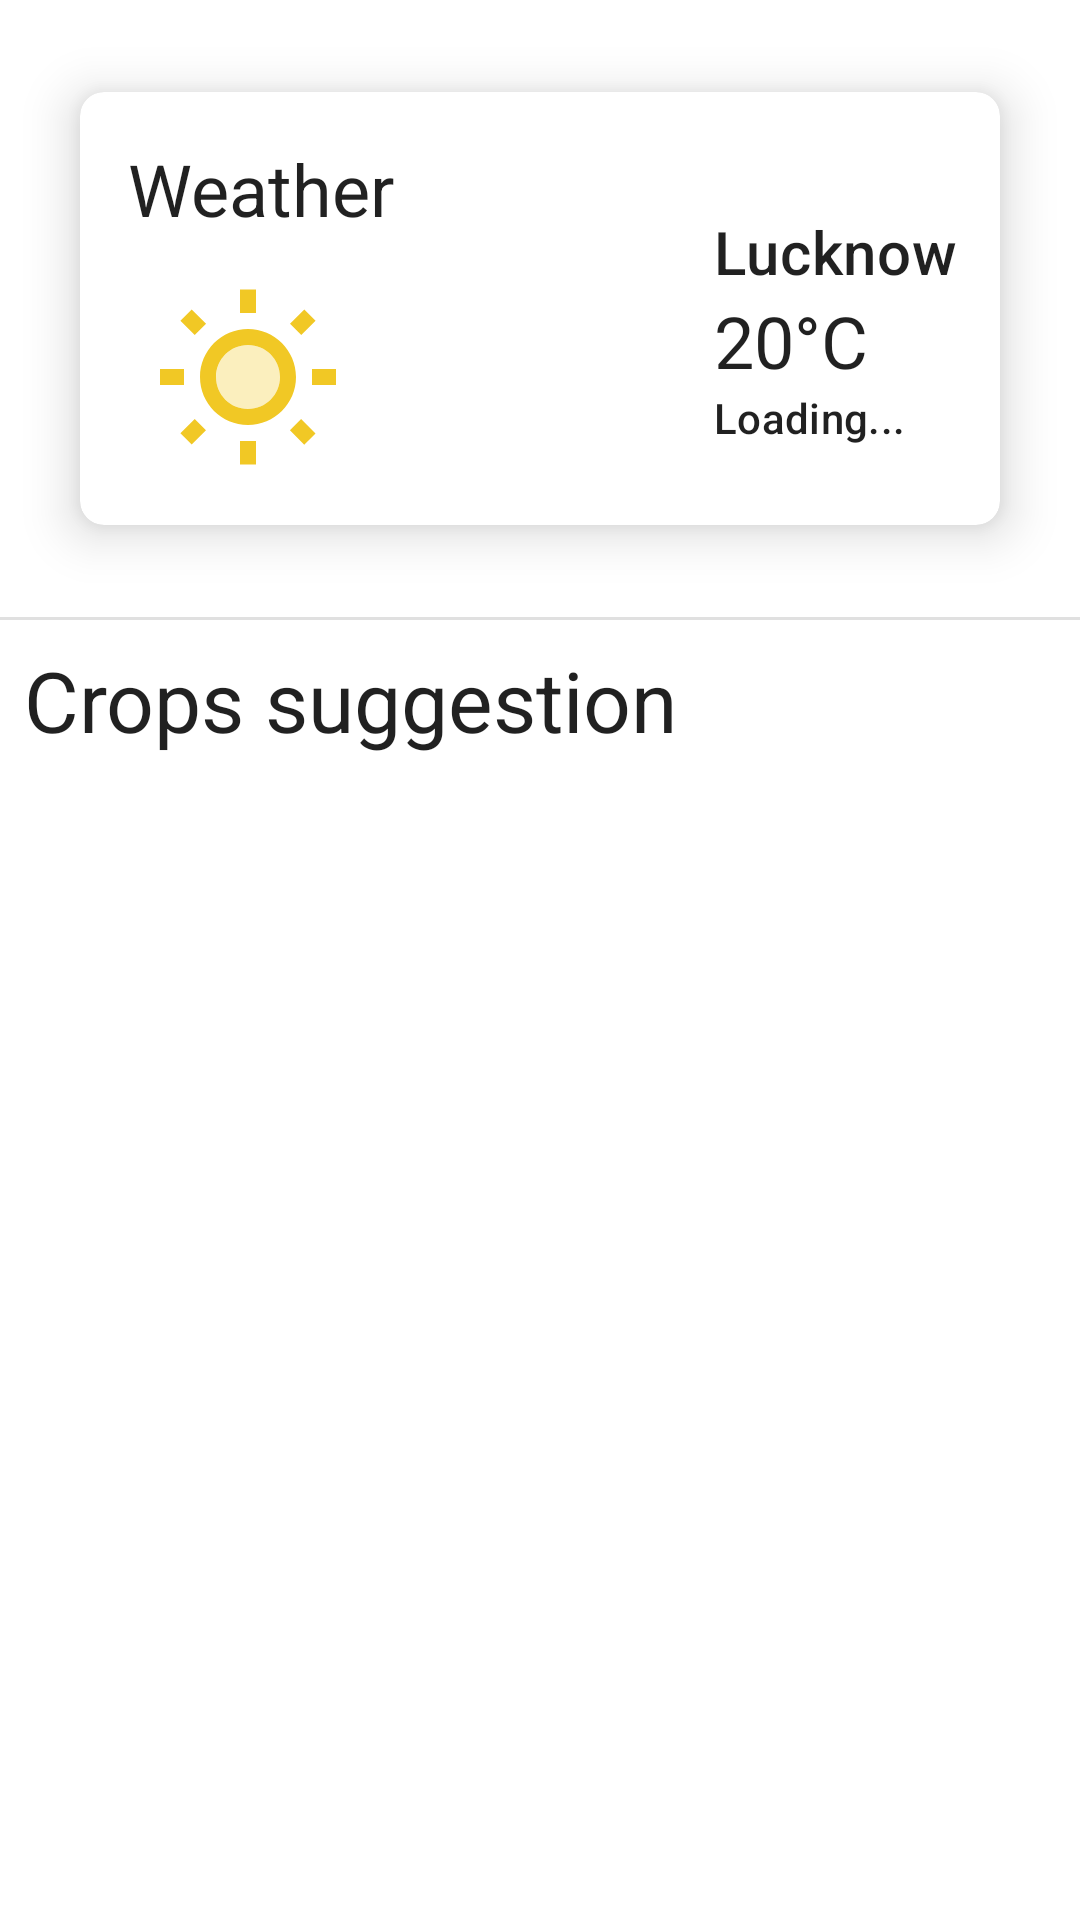

Screen size 1080 x 1920. Icon name, then its box in pixels as (x1, y1, x2, y2):
sunny: (160, 289, 336, 465)
